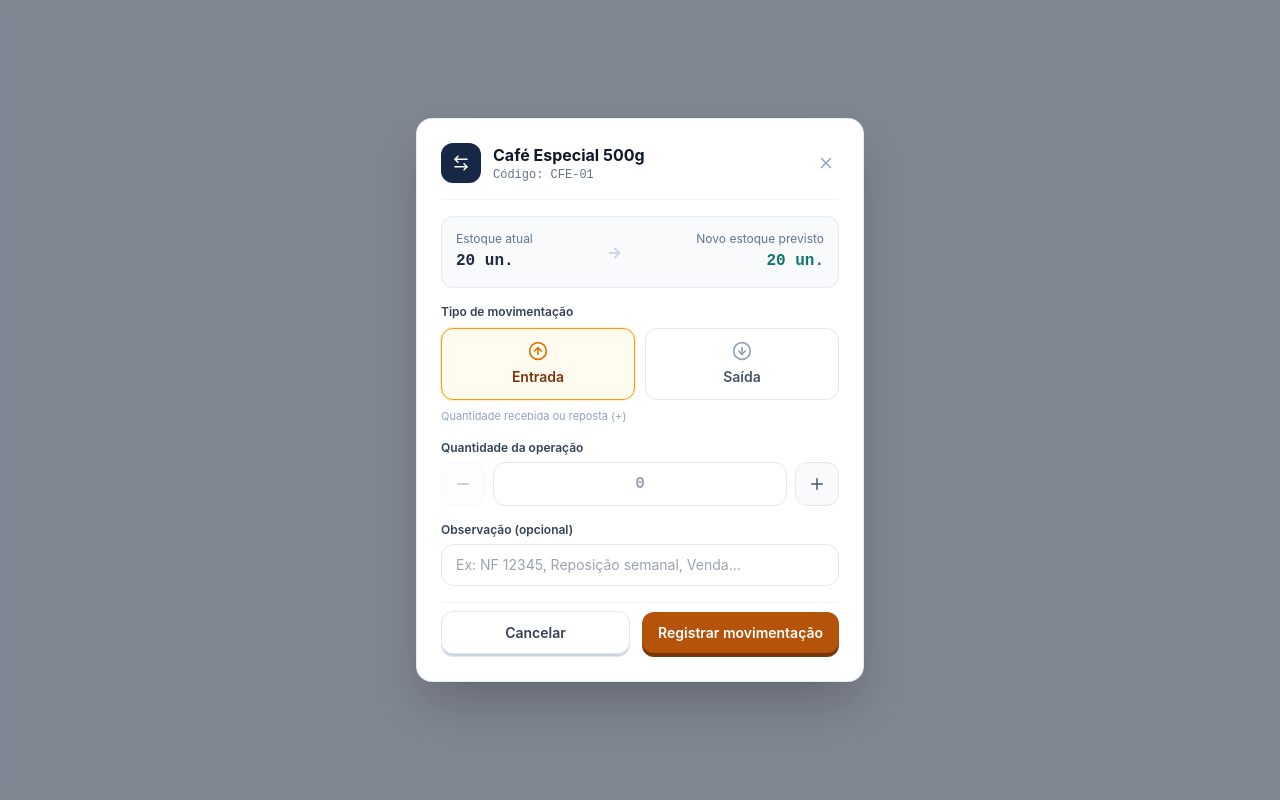
Test case: MovementModal › impede saída superior ao estoque atual
Click the button "Saída" at (742, 364), box 645,328 -> 839,400
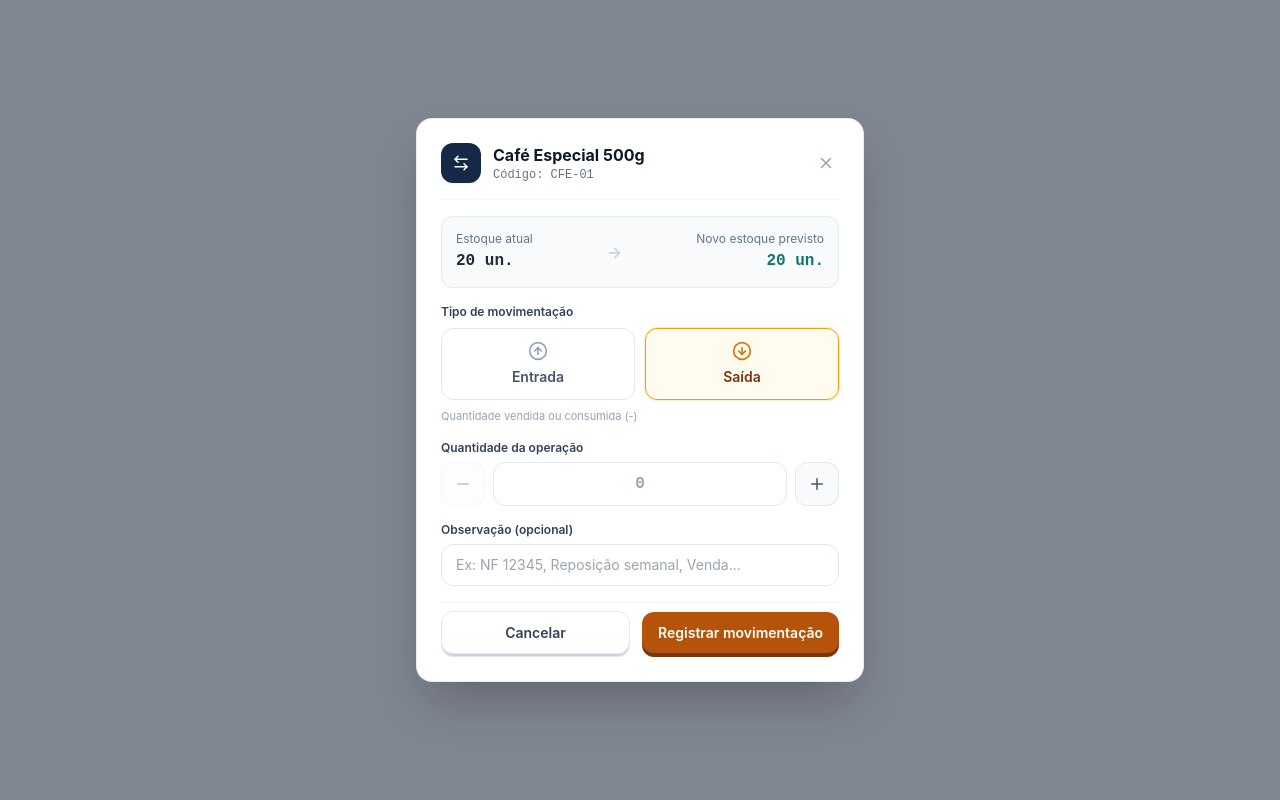
Type "25" into the field with placeholder "0" at (640, 484), box 493,462 -> 787,506
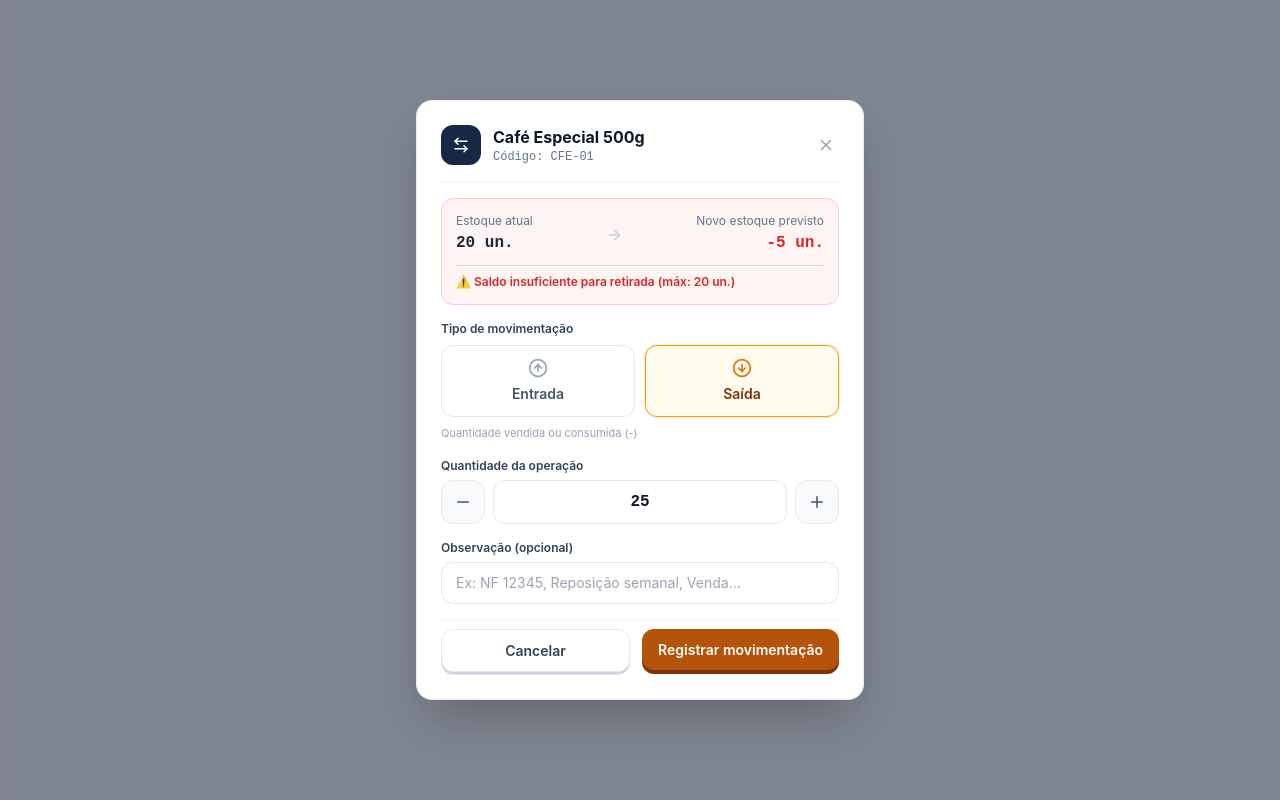
Click the button "Registrar movimentação" at (740, 650), box 642,629 -> 839,670
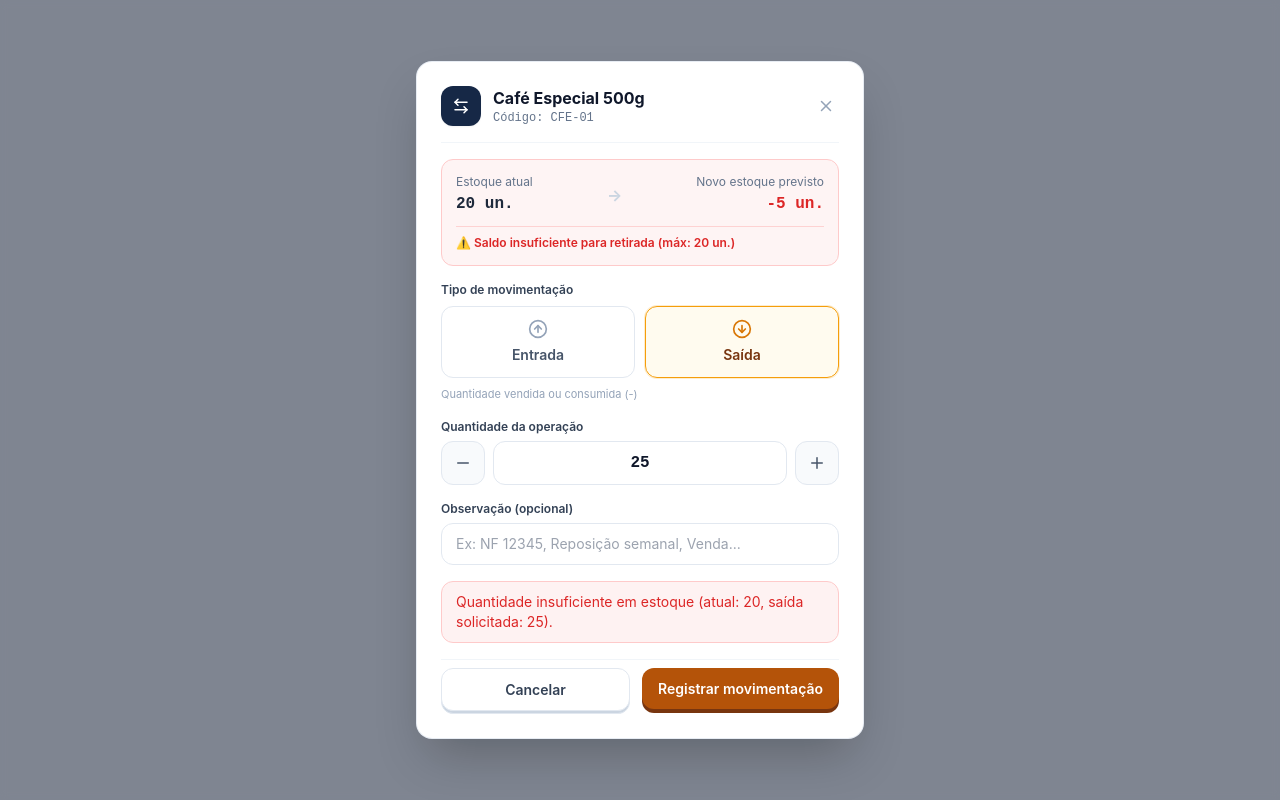
Now the text "Quantidade insuficiente em estoque" is shown, box 456,593 -> 803,630
